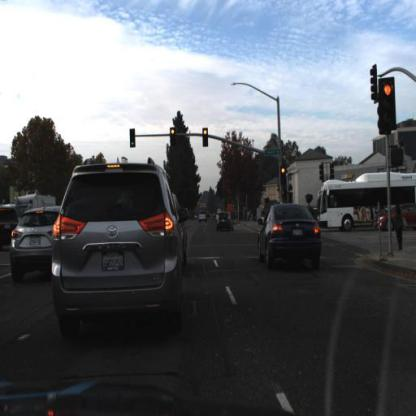car: (50, 159, 188, 335), (256, 199, 322, 272), (10, 204, 65, 280), (376, 204, 416, 233), (216, 210, 235, 234), (199, 208, 210, 227)
pedestrian: (393, 202, 405, 251), (260, 205, 268, 228), (261, 207, 267, 223)
trafficLight: (130, 128, 137, 149)
trafficLight-Red: (378, 72, 398, 136), (169, 127, 177, 146), (202, 126, 209, 147), (281, 165, 287, 183)
truck: (318, 173, 406, 230), (10, 192, 55, 228)
